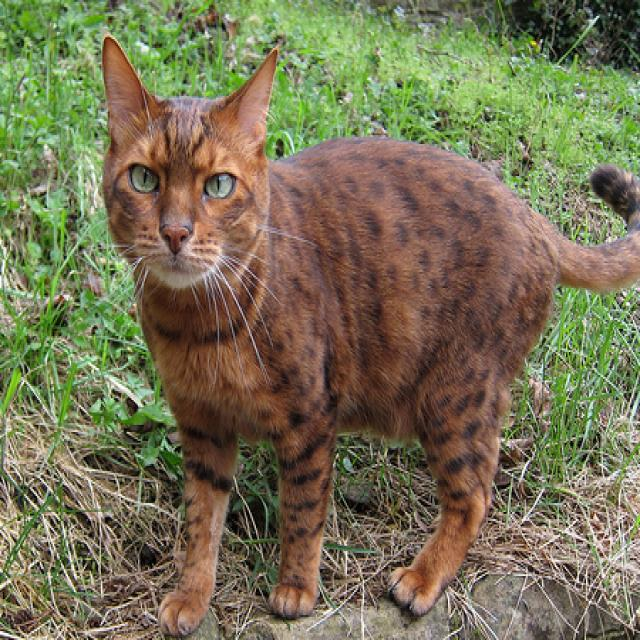Bengal: (95, 30, 640, 638)
